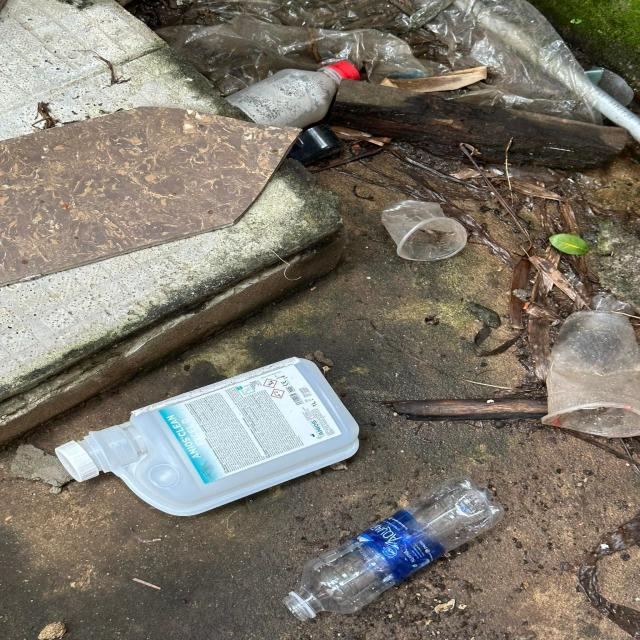bottle: (54, 355, 362, 515), (281, 477, 506, 621), (225, 60, 362, 128)
plastic glass: (541, 310, 640, 439), (382, 198, 469, 262)
